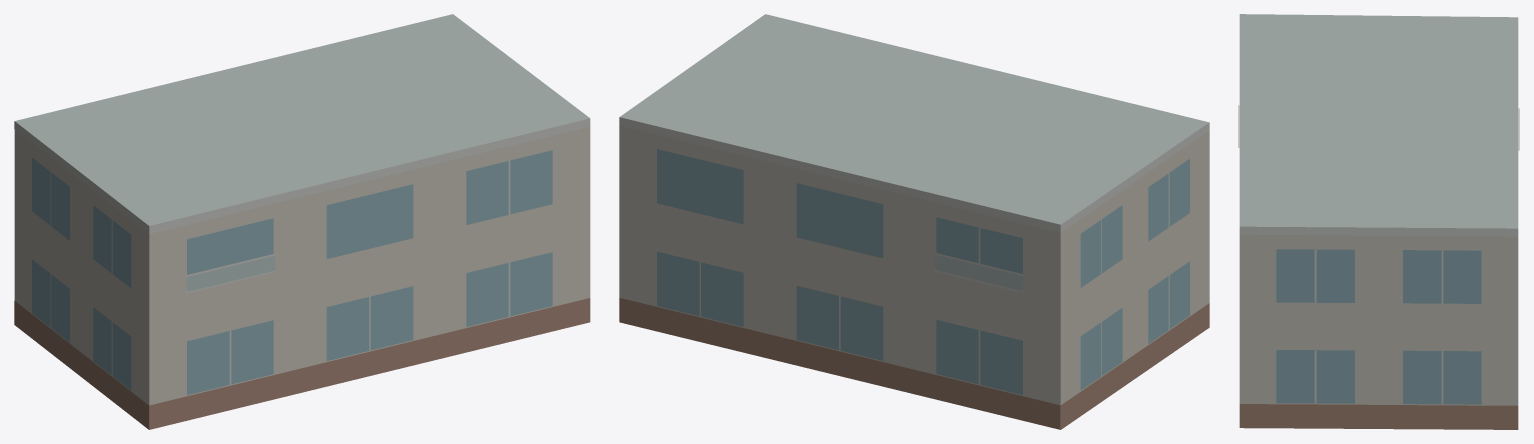
File: survey-upis-32482020.glb
3 renders of one model, left to right at view 1: azimuth 30°, elevation 25°; view 2: azimuth 150°, elevation 25°; view 3: azimuth 270°, elevation 25°, orthographic.
Visible parts, largest first — view 1: survey-upis-32482020.tmp; view 2: survey-upis-32482020.tmp; view 3: survey-upis-32482020.tmp.
Part boxes in pixels (box(x1,y1,x2,y2)): survey-upis-32482020.tmp: box(14, 14, 590, 429); survey-upis-32482020.tmp: box(619, 14, 1209, 429); survey-upis-32482020.tmp: box(1238, 14, 1519, 429).
Size of the model in its own units: 13.95 by 6.1 by 7.74.
